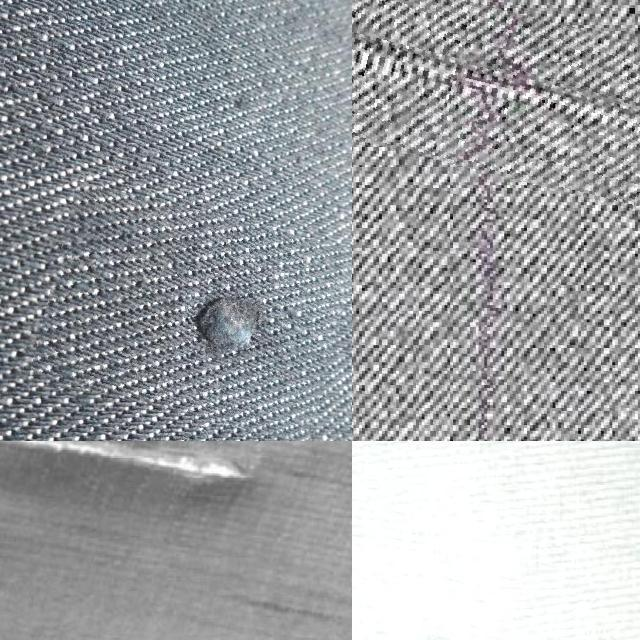Thread_other: (38, 196, 346, 428), (352, 2, 640, 220), (352, 500, 512, 640)
seam: (0, 441, 280, 519)
